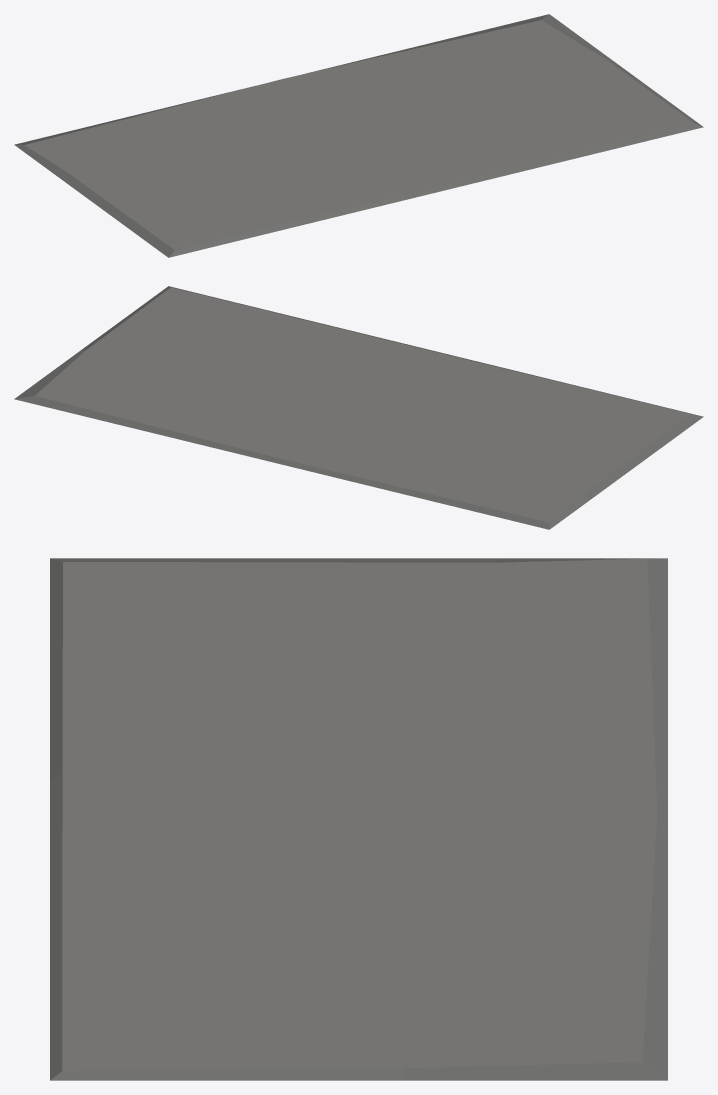
Rendered from SM_Gen_Env_Sidewalk_Half_01.glb.
3 renders of one model, top to bottom at view 1: azimuth 30°, elevation 25°; view 2: azimuth 150°, elevation 25°; view 3: azimuth 270°, elevation 25°, orthographic. The views are drawn at different scales.
Visible parts, largest first — view 1: SM_Gen_Env_Sidewalk_Half_012; view 2: SM_Gen_Env_Sidewalk_Half_012; view 3: SM_Gen_Env_Sidewalk_Half_012.
Boxes of the visible parts, <box> form: SM_Gen_Env_Sidewalk_Half_012: <box>14,14,703,257</box>; SM_Gen_Env_Sidewalk_Half_012: <box>14,286,703,529</box>; SM_Gen_Env_Sidewalk_Half_012: <box>50,558,667,1080</box>.
Bounding box in the file's own units: 2.5 × 0.0131 × 1.25.
Materials: 1 (1 with a texture image).
